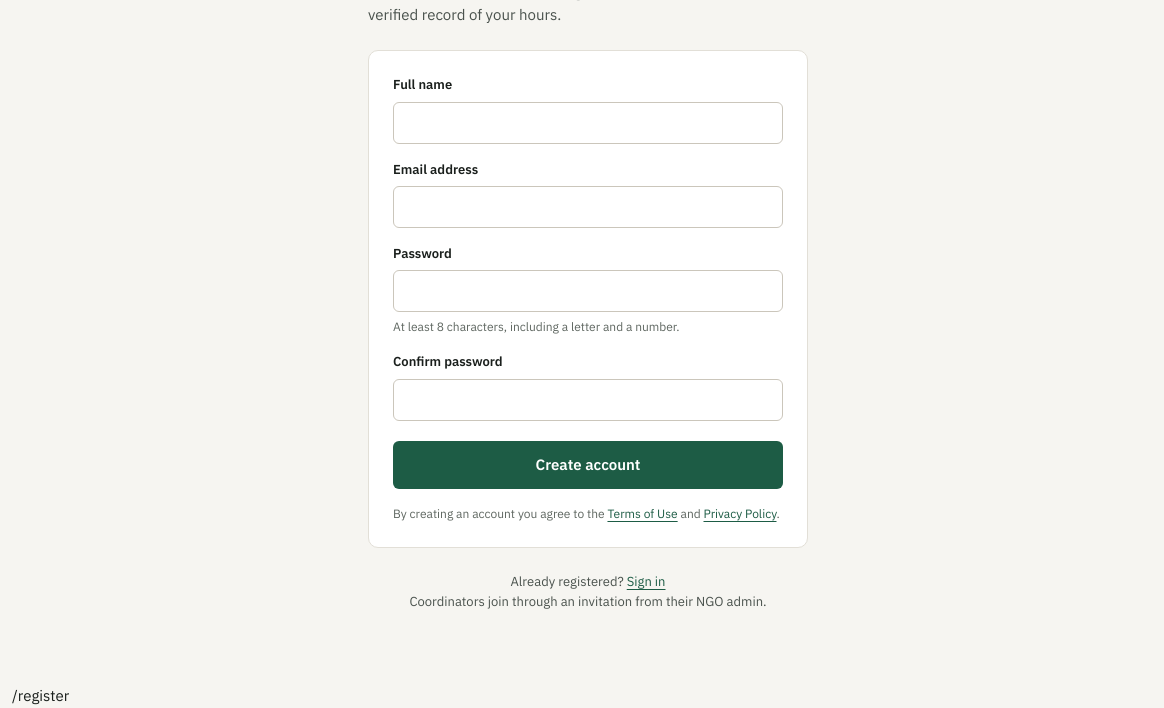
Register page › clears a field error as soon as the user edits that field
(page scrolled)
Click the button "Create account" at (588, 465), box [393,441,783,489]
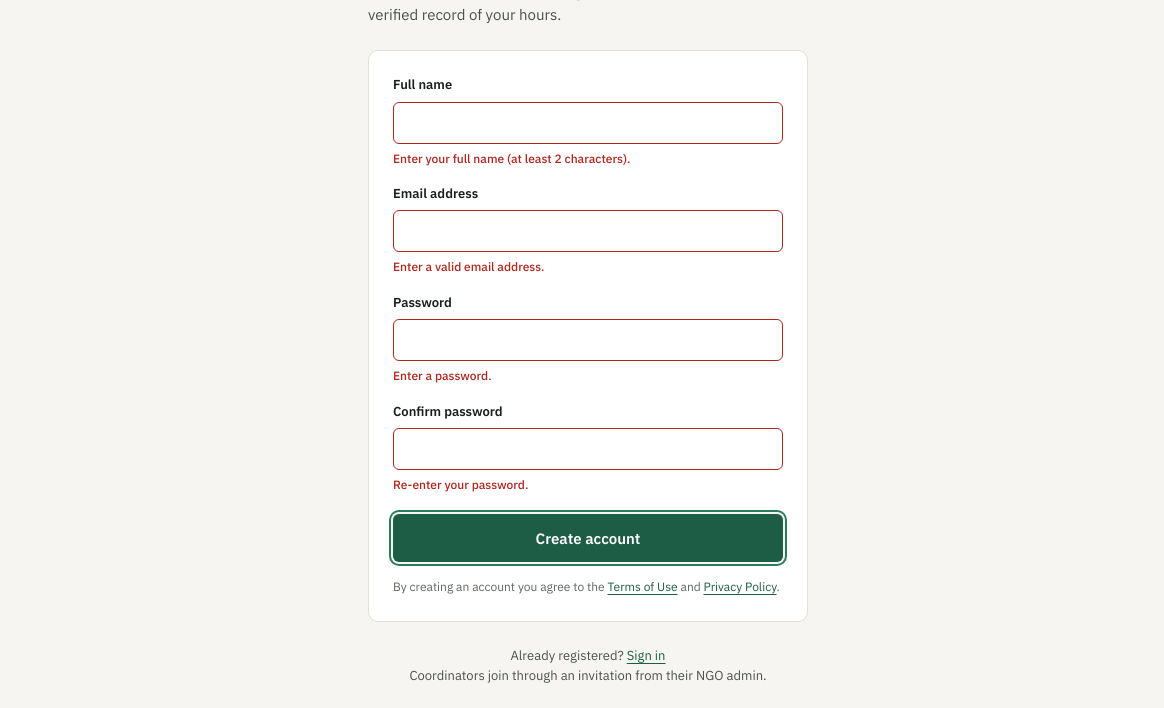
Check: the text "Re-enter your password." is shown, box [393,477,528,492]
Type "x" into the password field labelled "Confirm password" at (588, 449), box [393,428,783,470]
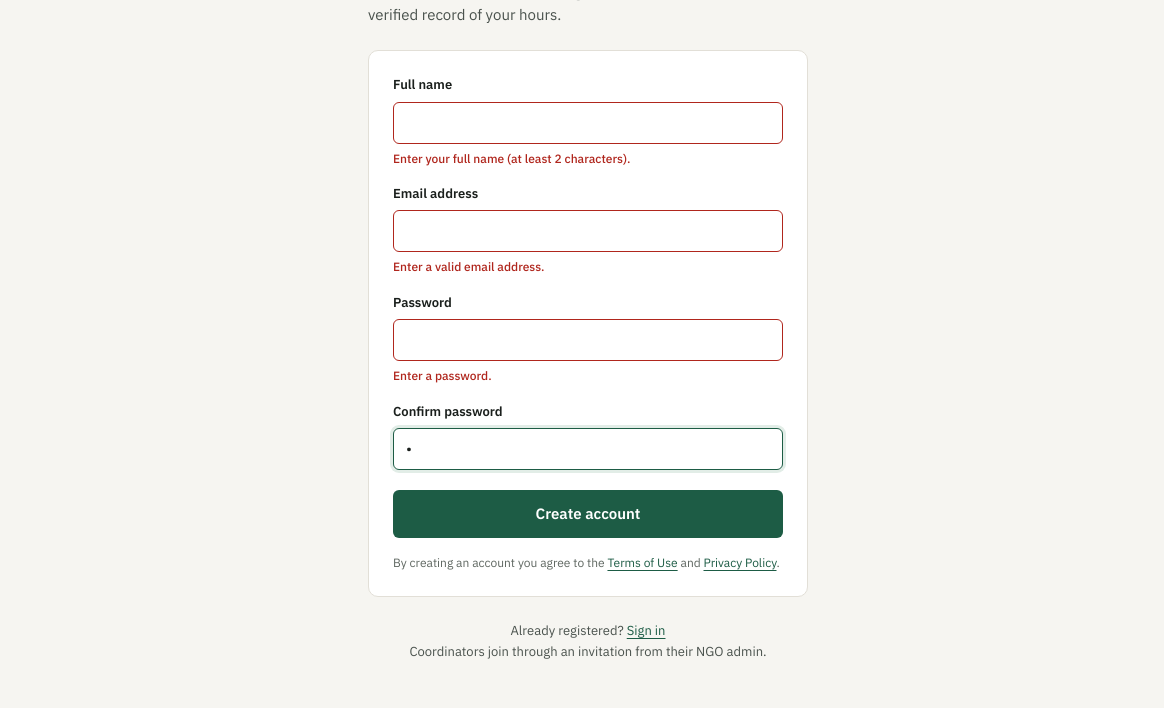
Check: the text "Re-enter your password." is gone
